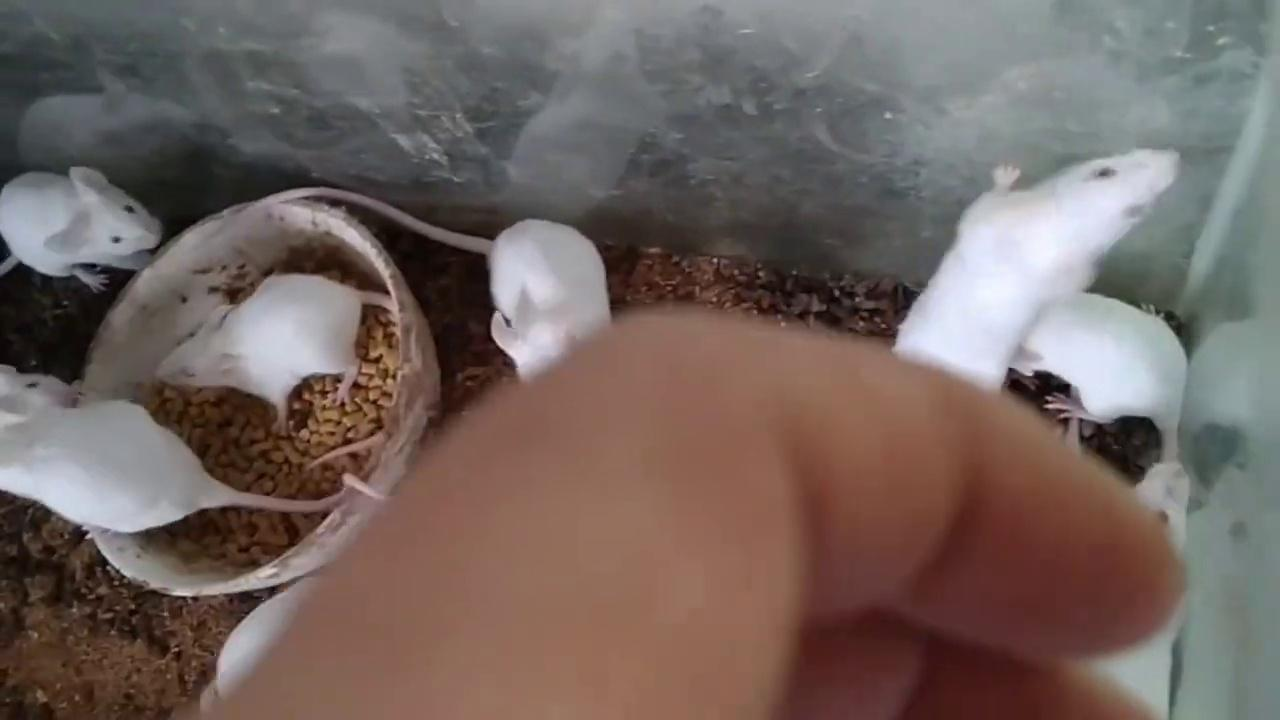rat: (195, 185, 613, 383), (893, 150, 1182, 391), (0, 401, 393, 538), (159, 273, 397, 432), (1012, 292, 1198, 451), (1083, 458, 1188, 720), (0, 167, 165, 291), (0, 364, 88, 410)
